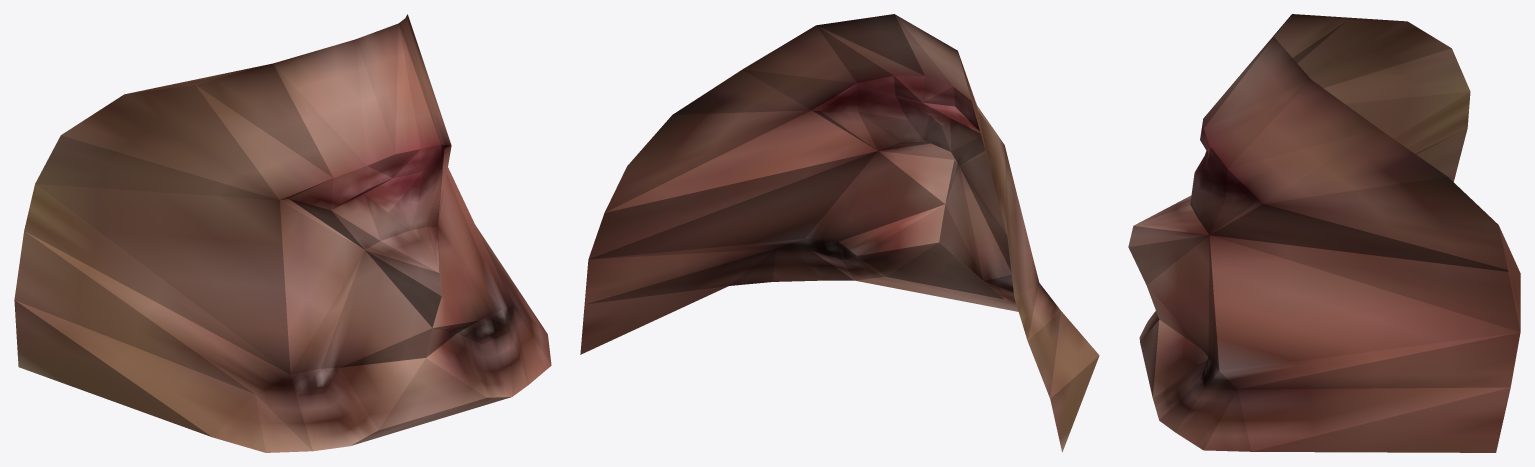
File: real_16764.obj
3 views of the same model, side by side, from view 1: azimuth 30°, elevation 25°; view 2: azimuth 150°, elevation 25°; view 3: azimuth 270°, elevation 25° (orthographic). The views are drawn at different scales.
Bounding box in the file's own units: 113 × 79 × 83.56.
